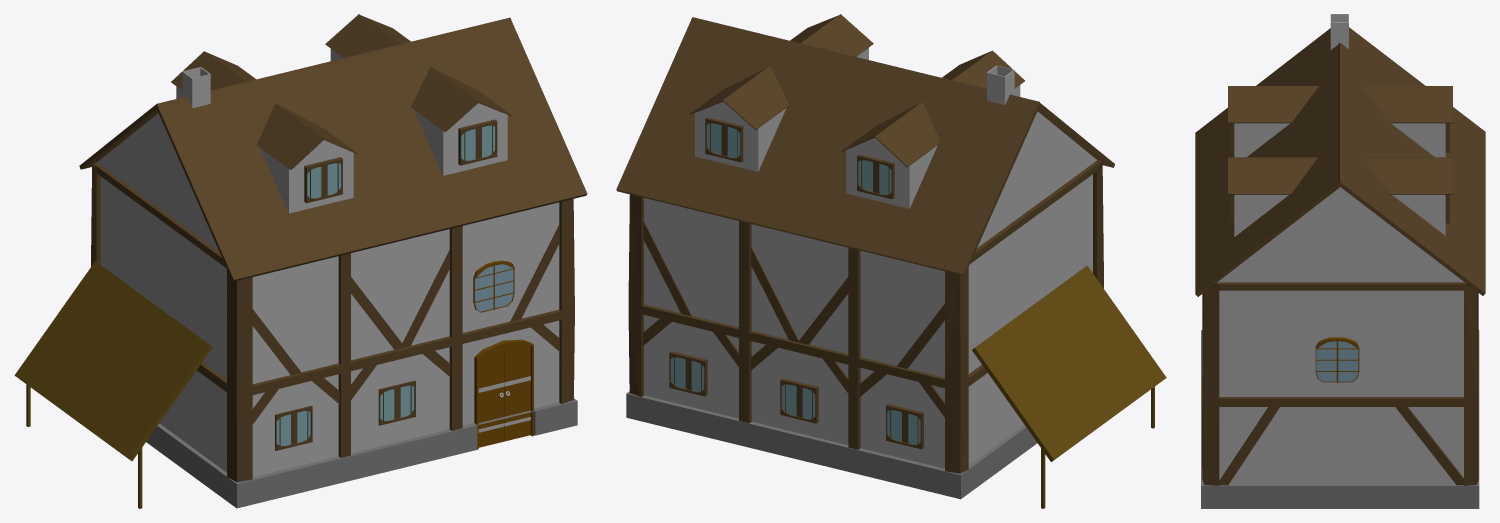
The model's file is House3.fbx.
3 views of the same model, side by side, from view 1: azimuth 30°, elevation 25°; view 2: azimuth 150°, elevation 25°; view 3: azimuth 270°, elevation 25° (orthographic). The views are drawn at different scales.
Parts seen in each view (by area): view 1: House3; view 2: House3; view 3: House3.
Part boxes in pixels (x1,y1,x2,y2): House3: (14, 14, 587, 508); House3: (616, 14, 1166, 508); House3: (1195, 14, 1485, 508).
Bounding box in the file's own units: 83.44 × 68.91 × 51.71.
